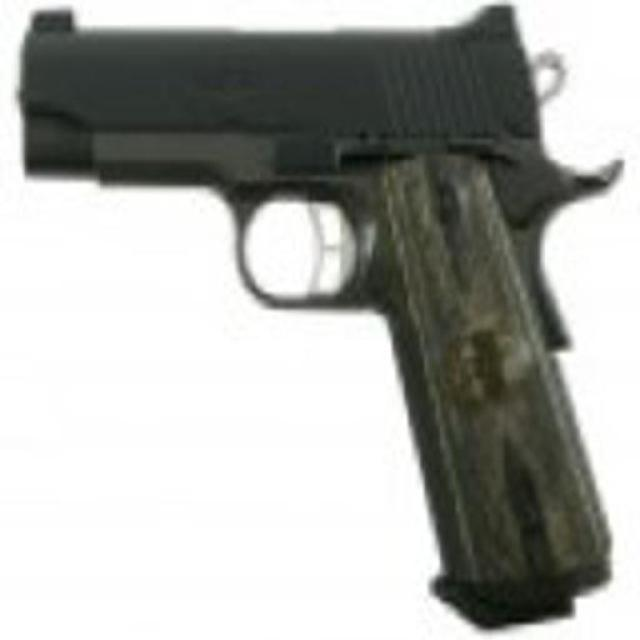pistol: (28, 5, 624, 634)
